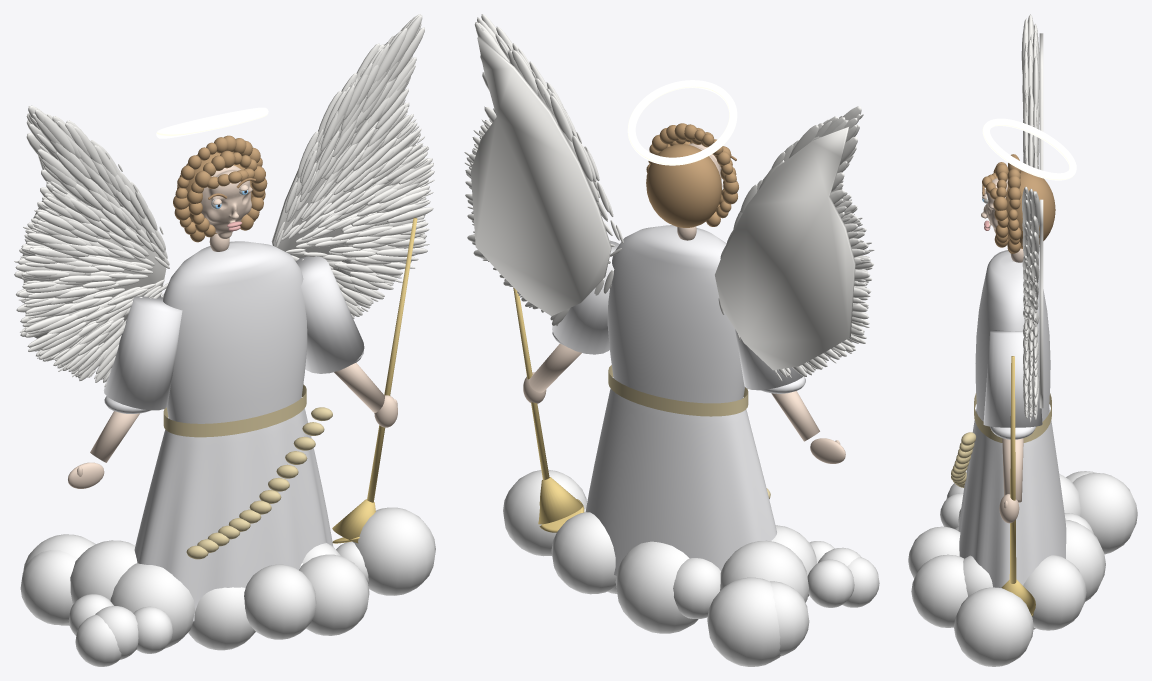
File: angel.glb
The picture shows the model from 3 angles, left to right: view 1: azimuth 30°, elevation 25°; view 2: azimuth 150°, elevation 25°; view 3: azimuth 270°, elevation 25°; orthographic projection. The views are drawn at different scales.
Visible parts, largest first — view 1: skirt, bodice, sleeveL, cloud.015, sleeveR, cloud.012, cloud.008, cloud.011, cloud.005, cloud.001, cloud.017, Head (+14 smaller); view 2: skirt, wing_slabR, wing_slabL, bodice, cloud.019, cloud.013, hair_back, cloud.016, cloud.015, cloud.017, sleeveR, halo (+12 smaller); view 3: skirt, bodice, cloud.015, sleeveR, cloud.019, cloud.016, cloud.008, cloud.013, halo, cloud.012, hair_back, trumpet_pipe (+11 smaller).
Boxes of the visible parts, x1,y1,x2,y2 form: skirt: [134, 408, 333, 621]; bodice: [163, 241, 307, 423]; sleeveL: [103, 294, 182, 410]; cloud.015: [352, 507, 435, 595]; sleeveR: [295, 256, 364, 373]; cloud.012: [244, 564, 316, 639]; cloud.008: [299, 554, 369, 635]; cloud.011: [110, 563, 194, 648]; cloud.005: [20, 550, 77, 624]; cloud.001: [188, 587, 255, 650]; cloud.017: [70, 540, 137, 604]; Head: [201, 165, 252, 251]; skirt: [585, 388, 776, 575]; wing_slabR: [471, 36, 611, 316]; wing_slabL: [715, 127, 855, 370]; bodice: [607, 225, 744, 403]; cloud.019: [707, 577, 780, 666]; cloud.013: [615, 541, 698, 633]; hair_back: [646, 144, 721, 227]; cloud.016: [551, 512, 616, 594]; cloud.015: [503, 470, 586, 556]; cloud.017: [720, 540, 808, 602]; sleeveR: [552, 240, 619, 354]; halo: [627, 80, 737, 165]; skirt: [958, 407, 1066, 587]; bodice: [975, 251, 1050, 421]; cloud.015: [954, 587, 1033, 666]; sleeveR: [983, 330, 1042, 427]; cloud.019: [1072, 473, 1137, 554]; cloud.016: [1023, 555, 1086, 630]; cloud.008: [911, 554, 967, 627]; cloud.013: [1065, 519, 1105, 601]; halo: [982, 118, 1076, 180]; cloud.012: [908, 526, 960, 578]; hair_back: [1006, 170, 1055, 248]; trumpet_pipe: [1009, 356, 1016, 583].
Bounding box in the file's own units: 1.04 × 1.35 × 0.5511.
